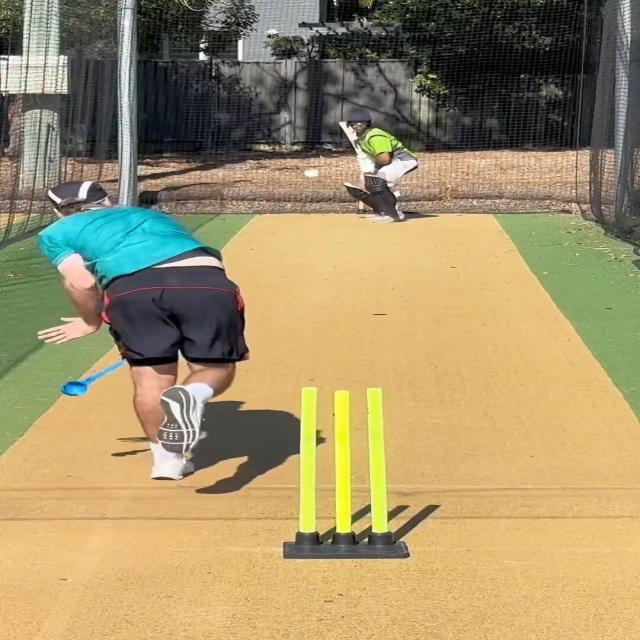ball: (300, 166, 324, 182)
stump: (279, 386, 412, 560)
